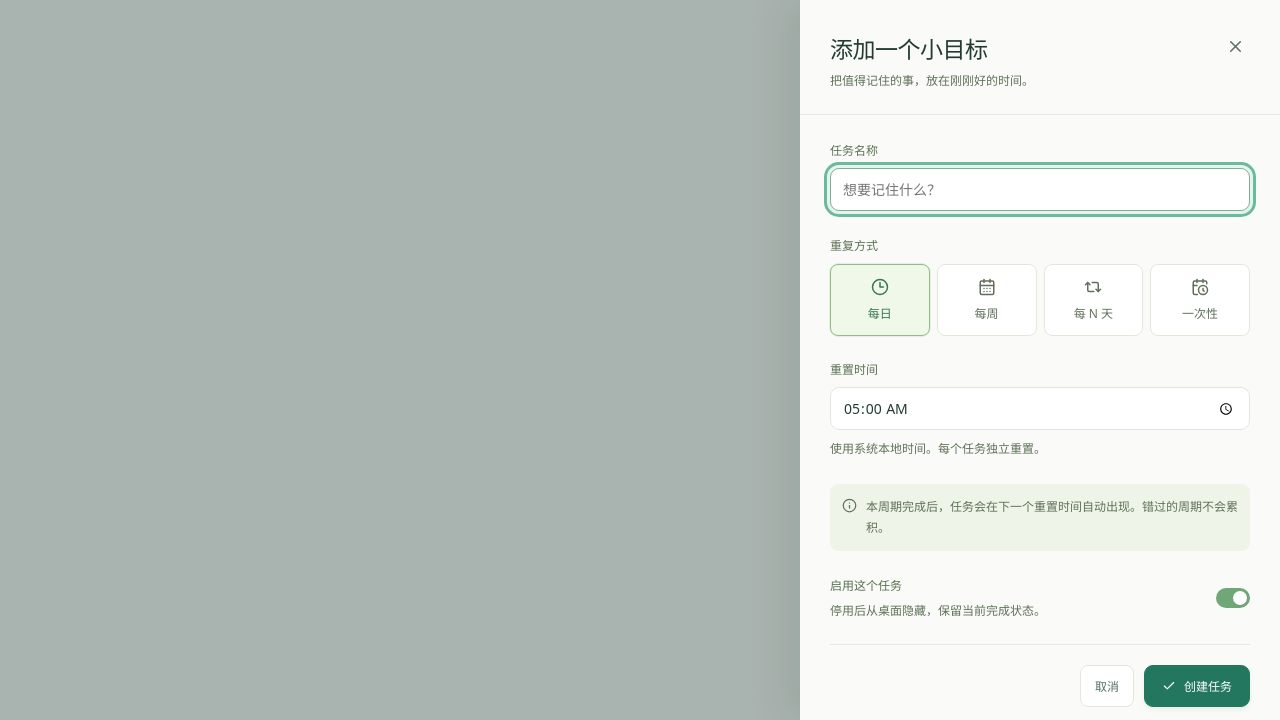
Test: 任务编辑 › 保存失败时保留编辑内容并显示错误
Type "晨间计划" into the field labelled "任务名称".
click(1040, 190); type("晨间计划")  # box top-left (830, 168), bottom-right (1250, 211)
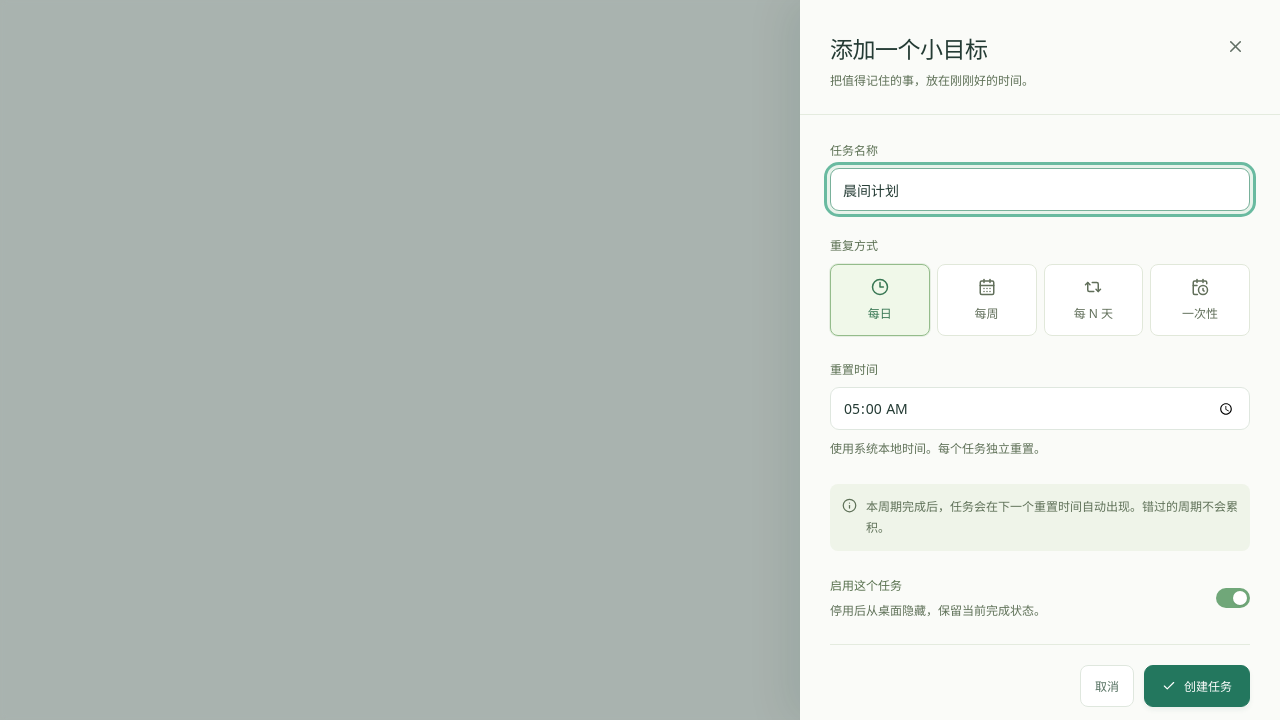
Click the button "创建任务".
click(1197, 686)  # box top-left (1144, 665), bottom-right (1250, 707)
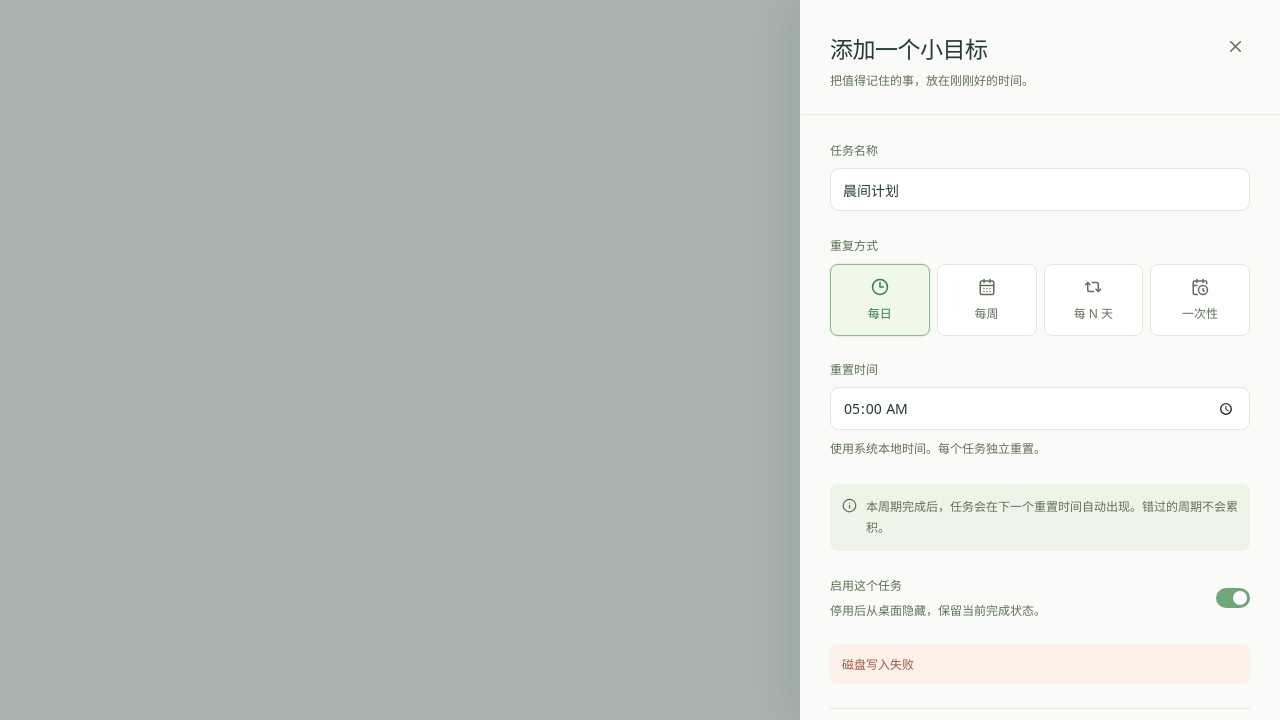
Expected: the text "磁盘写入失败" is shown, top-left (830, 644), bottom-right (1250, 684)
